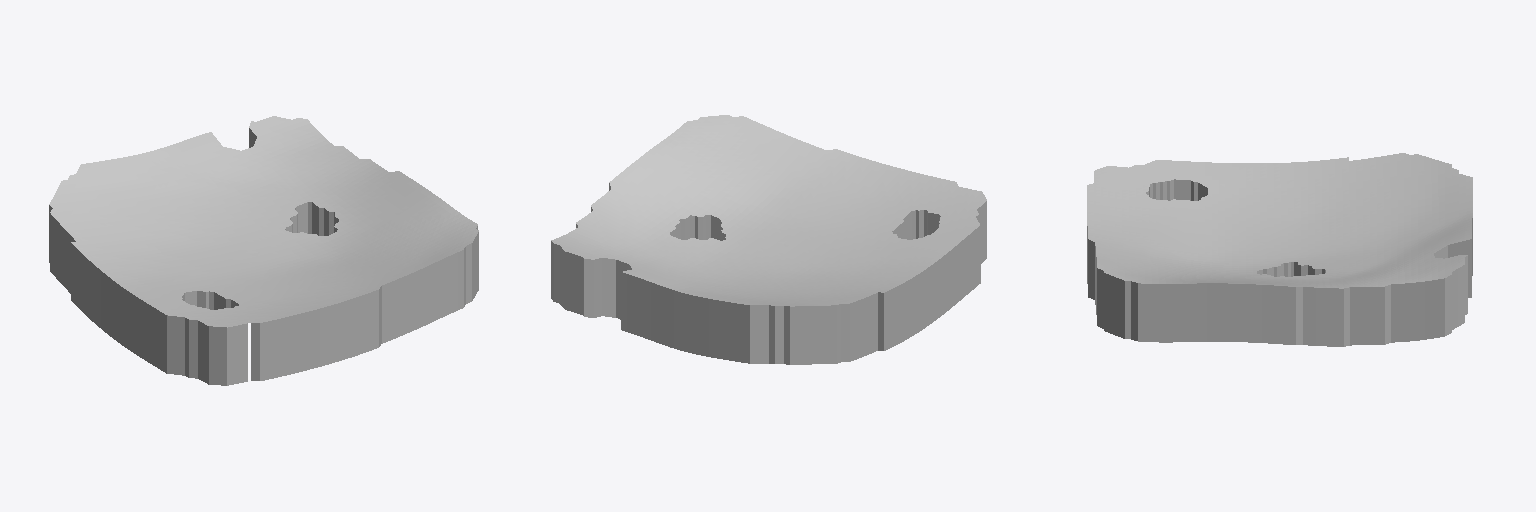
File: cityLevel4.obj
The picture shows the model from 3 angles: view 1: azimuth 30°, elevation 25°; view 2: azimuth 150°, elevation 25°; view 3: azimuth 270°, elevation 25°; orthographic projection.
Parts seen in each view (by area): view 1: Asphalt_Plane.003; view 2: Asphalt_Plane.003; view 3: Asphalt_Plane.003.
Boxes of the visible parts, x1=… form: Asphalt_Plane.003: x1=49, y1=116, x2=478, y2=385; Asphalt_Plane.003: x1=551, y1=115, x2=986, y2=364; Asphalt_Plane.003: x1=1087, y1=153, x2=1472, y2=346.
Size of the model in its own units: 78.59 by 23.09 by 86.76.